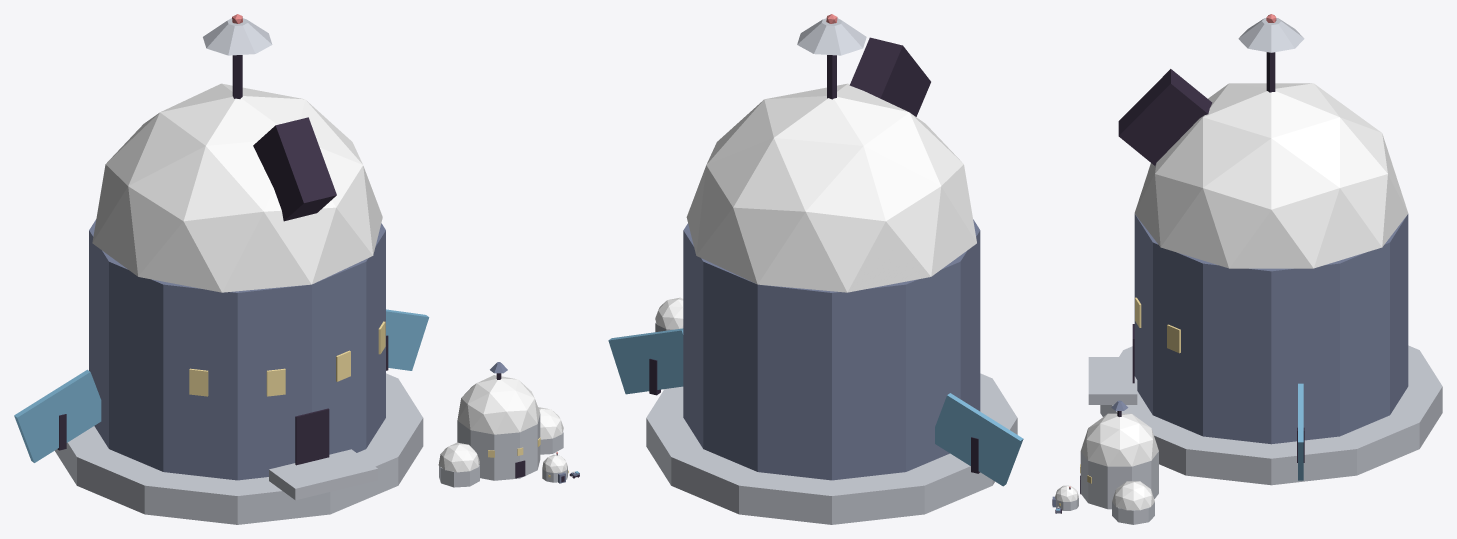
Rendered from moon-g3.glb.
The picture shows the model from 3 angles, left to right: view 1: azimuth 30°, elevation 25°; view 2: azimuth 150°, elevation 25°; view 3: azimuth 270°, elevation 25°; orthographic projection. The views are drawn at different scales.
Parts seen in each view (by area): view 1: moon-g3; view 2: moon-g3; view 3: moon-g3.
Part boxes in pixels (x1=…): moon-g3: x1=14, y1=14, x2=579, y2=524; moon-g3: x1=608, y1=14, x2=1023, y2=524; moon-g3: x1=1052, y1=14, x2=1442, y2=524.
Size of the model in its own units: 4.95 by 4.5 by 3.99.
